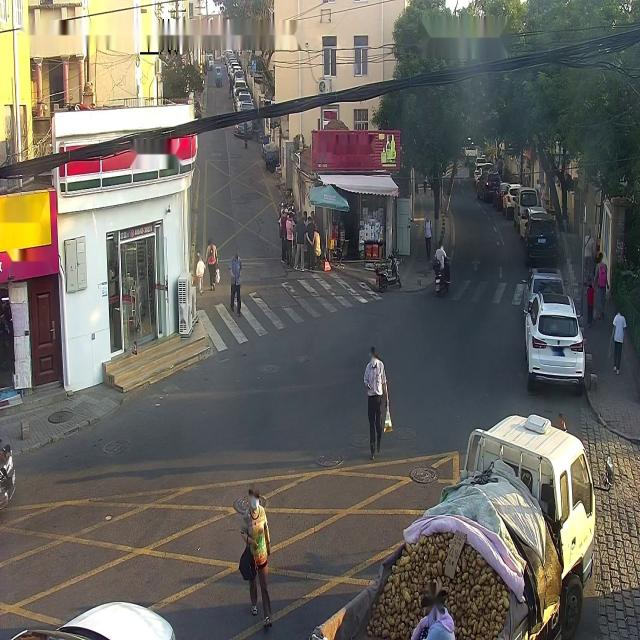car: (307, 415, 614, 637)
fixed_stall: (368, 464, 538, 637)
sunshade: (319, 171, 399, 199), (307, 184, 350, 212)
